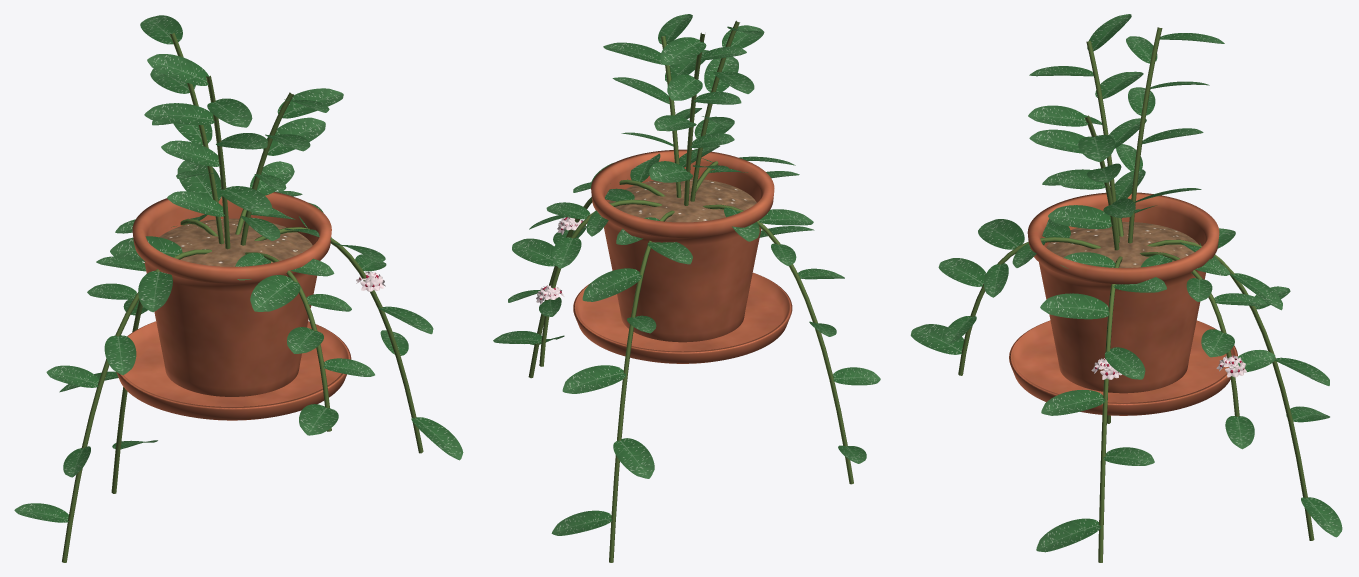
Rendered from hoya.glb.
The picture shows the model from 3 angles, left to right: view 1: azimuth 30°, elevation 25°; view 2: azimuth 150°, elevation 25°; view 3: azimuth 270°, elevation 25°; orthographic projection. The views are drawn at different scales.
Visible parts, largest first — view 1: piece-0, piece-1, piece-59, piece-2, piece-47, piece-44, piece-42, piece-32, piece-55, piece-34, piece-57, piece-9 (+17 smaller); view 2: piece-0, piece-1, piece-59, piece-2, piece-21, piece-19, piece-22, piece-23, piece-30, piece-14, piece-24, piece-28 (+14 smaller); view 3: piece-0, piece-1, piece-59, piece-2, piece-5, piece-9, piece-52, piece-7, piece-47, piece-51, piece-58, piece-49 (+17 smaller).
Part boxes in pixels (left/top/right/bottom): piece-0: left=132, top=192, right=331, bottom=396; piece-1: left=116, top=321, right=351, bottom=420; piece-59: left=62, top=33, right=423, bottom=562; piece-2: left=159, top=218, right=312, bottom=266; piece-47: left=250, top=275, right=300, bottom=311; piece-44: left=147, top=54, right=208, bottom=85; piece-42: left=144, top=103, right=214, bottom=124; piece-32: left=138, top=271, right=172, bottom=312; piece-55: left=263, top=117, right=325, bottom=155; piece-34: left=104, top=335, right=136, bottom=375; piece-57: left=277, top=88, right=343, bottom=118; piece-9: left=411, top=417, right=463, bottom=460; piece-0: left=591, top=149, right=774, bottom=342; piece-1: left=573, top=272, right=792, bottom=363; piece-59: left=528, top=20, right=853, bottom=562; piece-2: left=608, top=178, right=756, bottom=222; piece-21: left=562, top=365, right=625, bottom=393; piece-19: left=582, top=268, right=641, bottom=301; piece-22: left=613, top=438, right=654, bottom=478; piece-23: left=551, top=510, right=612, bottom=535; piece-30: left=660, top=37, right=706, bottom=65; piece-14: left=512, top=238, right=555, bottom=266; piece-24: left=649, top=161, right=692, bottom=182; piece-28: left=667, top=74, right=702, bottom=100; piece-0: left=1027, top=192, right=1219, bottom=393; piece-1: left=1009, top=320, right=1237, bottom=415; piece-59: left=958, top=27, right=1314, bottom=562; piece-2: left=1046, top=221, right=1198, bottom=267; piece-5: left=1040, top=293, right=1109, bottom=319; piece-9: left=1036, top=518, right=1101, bottom=552; piece-52: left=1048, top=205, right=1112, bottom=228; piece-7: left=1041, top=390, right=1105, bottom=415; piece-47: left=978, top=219, right=1024, bottom=249; piece-51: left=910, top=324, right=964, bottom=354; piece-58: left=1028, top=105, right=1088, bottom=126; piece-49: left=938, top=258, right=986, bottom=286.
Bounding box in the file's own units: 0.3825 × 0.4755 × 0.3723.
6 materials, 4 textured.
